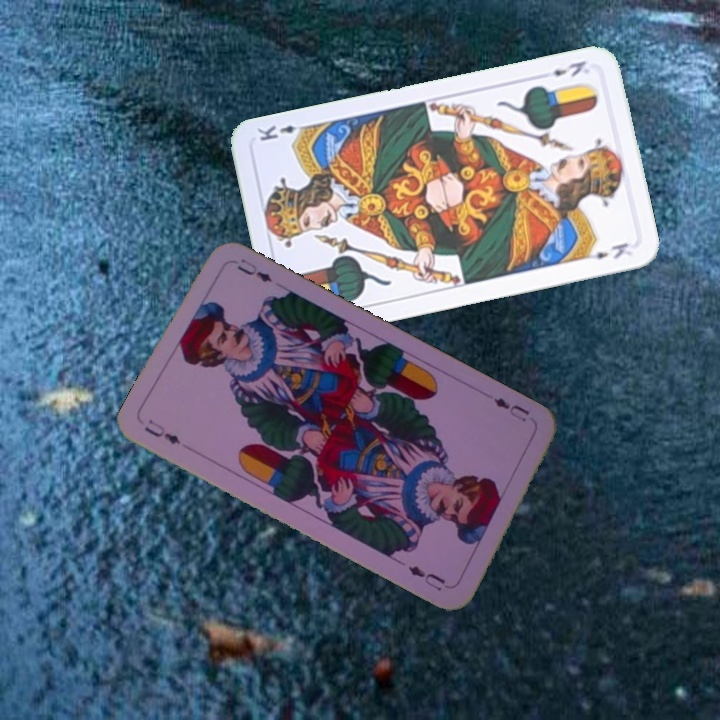EK: (548, 56, 589, 80)
EU: (140, 414, 184, 448), (489, 393, 533, 425)
